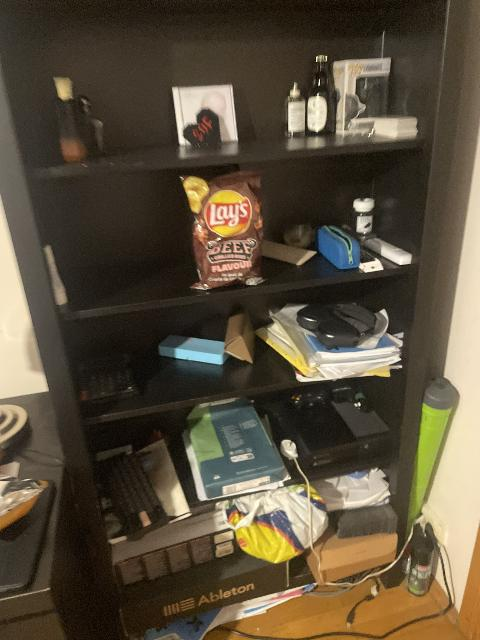Lays Beef Grilled Ribs 125g: (180, 170, 266, 290)
